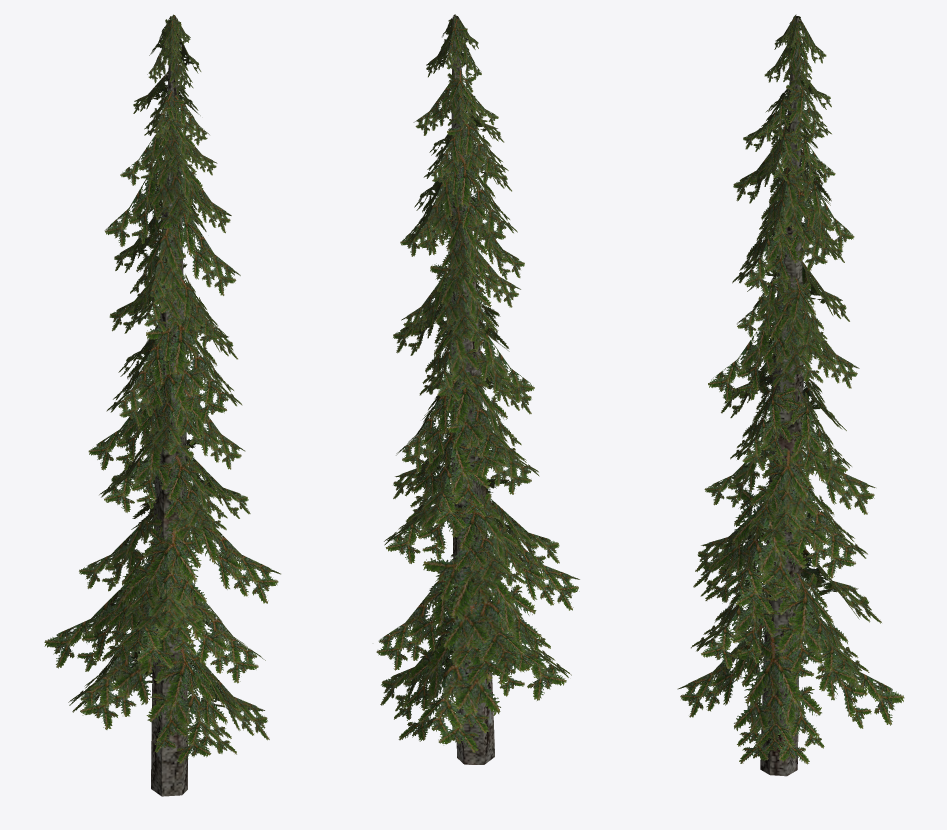
Rendered from abeto_b.glb.
3 renders of one model, left to right at view 1: azimuth 30°, elevation 25°; view 2: azimuth 150°, elevation 25°; view 3: azimuth 270°, elevation 25°, orthographic. The views are drawn at different scales.
Parts seen in each view (by area): view 1: Modelo; view 2: Modelo; view 3: Modelo.
Boxes of the visible parts, box(x1,y1,x2,y2) form: Modelo: box(44, 14, 280, 796); Modelo: box(376, 14, 579, 764); Modelo: box(677, 14, 904, 776).
Bounding box in the file's own units: 2.11 × 5.81 × 1.99.
1 material, 1 textured.
